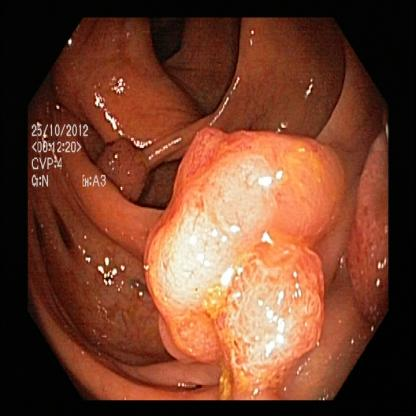Labels: (25, 116, 111, 200)
Polyps: (155, 139, 338, 348), (226, 254, 324, 390)
